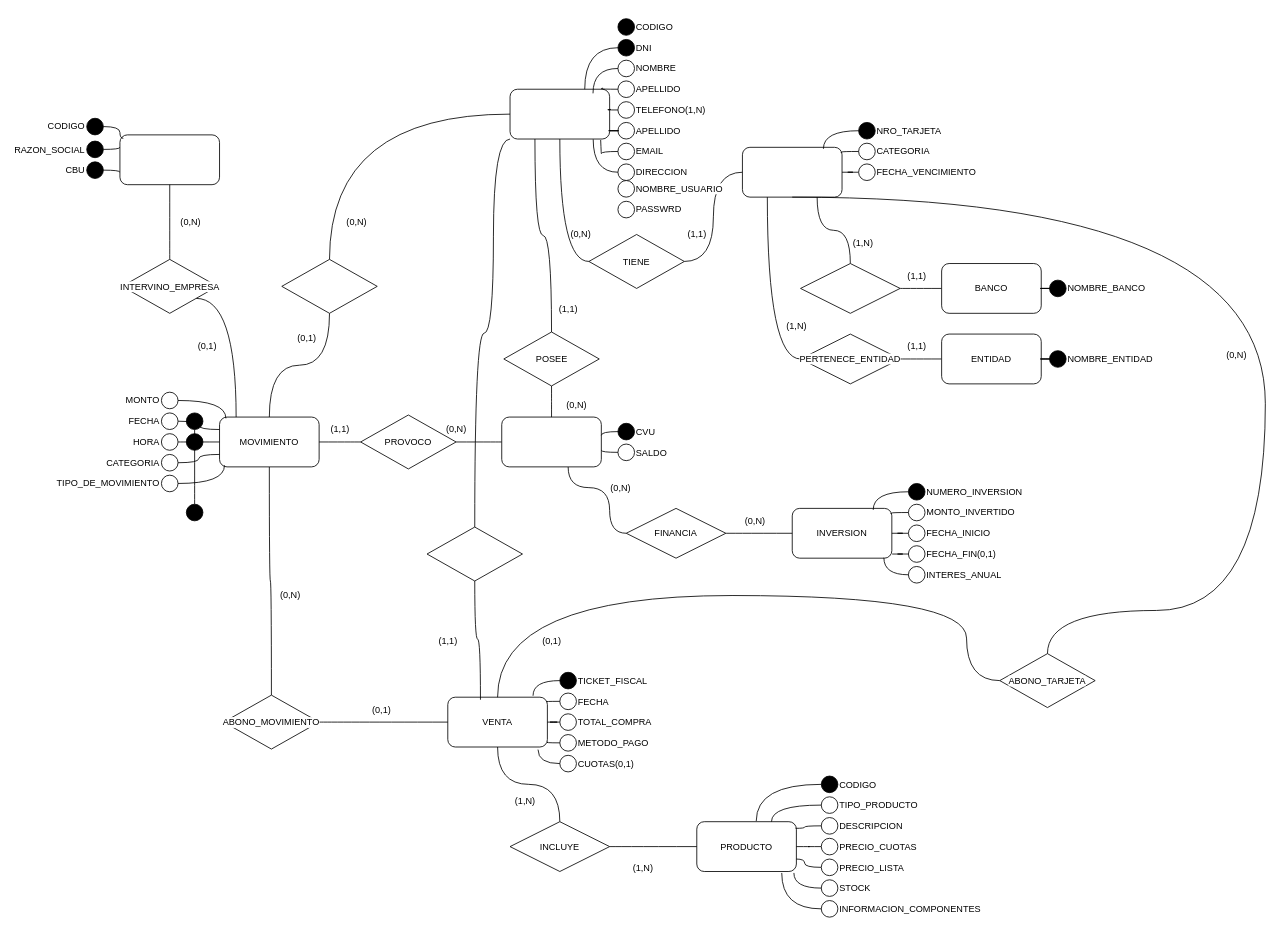
This 1280x935 diagram has some shape labels left out. Each missing label, with the centre of its shape:
"CUENTA_VIRTUAL" goes at [551,441].
"EMITIDO_POR" goes at [474,553].
"EMPRESA" goes at [169,159].
"INTERVINO_USUARIO" goes at [329,286].
"PERTENECE_BANCO" goes at [850,288].
"TARJETA" goes at [792,171].
"USUARIOS" goes at [559,113].
